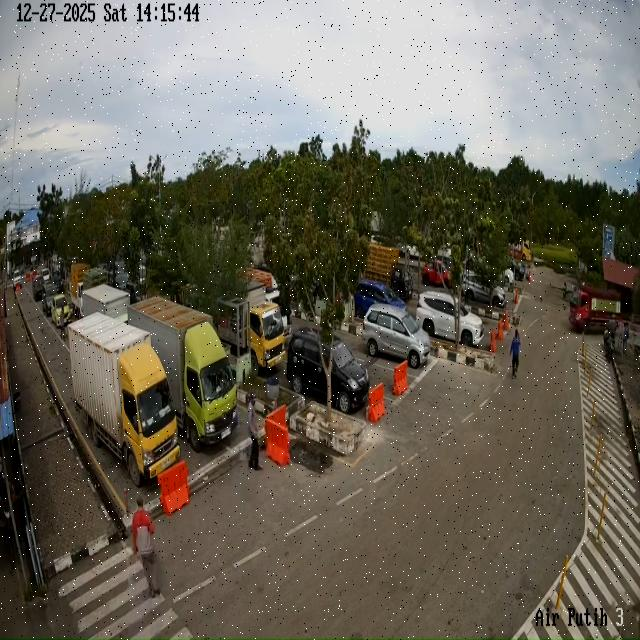Golongan IVA: (286, 327, 370, 414), (362, 304, 430, 369), (416, 291, 484, 347), (354, 279, 406, 320), (462, 271, 506, 308), (422, 259, 450, 287), (51, 294, 71, 327)
Golongan VB: (69, 313, 180, 486), (128, 296, 238, 452), (569, 286, 628, 331)
